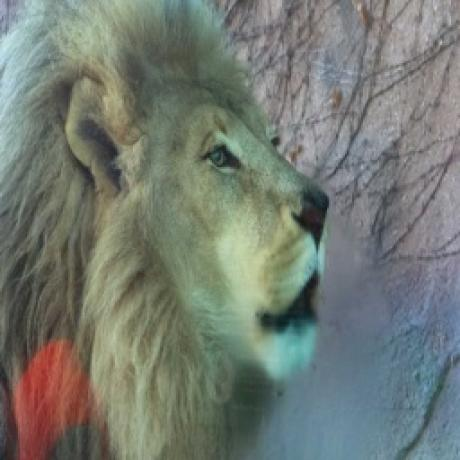Lion: (0, 0, 334, 460)
